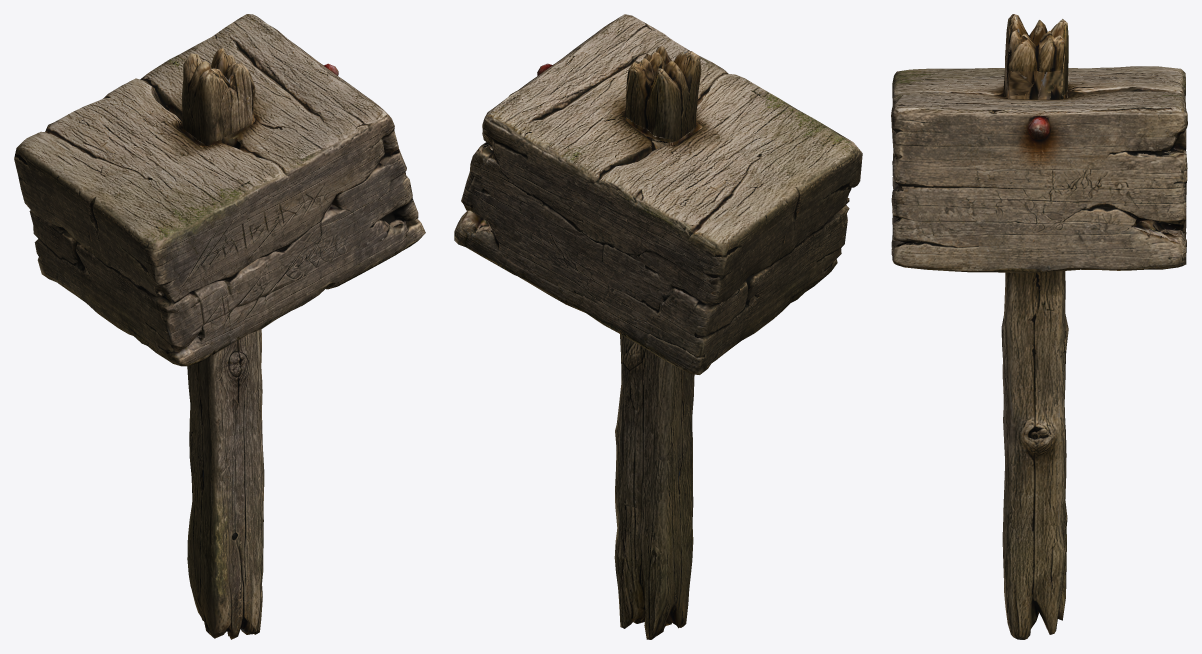
Rendered from Sign.fbx.
3 renders of one model, left to right at view 1: azimuth 30°, elevation 25°; view 2: azimuth 150°, elevation 25°; view 3: azimuth 270°, elevation 25°, orthographic. The views are drawn at different scales.
Visible parts, largest first — view 1: texture_mapping; view 2: texture_mapping; view 3: texture_mapping.
Part boxes in pixels (x1,y1,x2,y2): texture_mapping: [14, 14, 425, 639]; texture_mapping: [454, 14, 862, 639]; texture_mapping: [891, 14, 1187, 639].
Size of the model in its own units: 0.5003 by 0.4486 by 1.
Materials: 1 (1 with a texture image).
